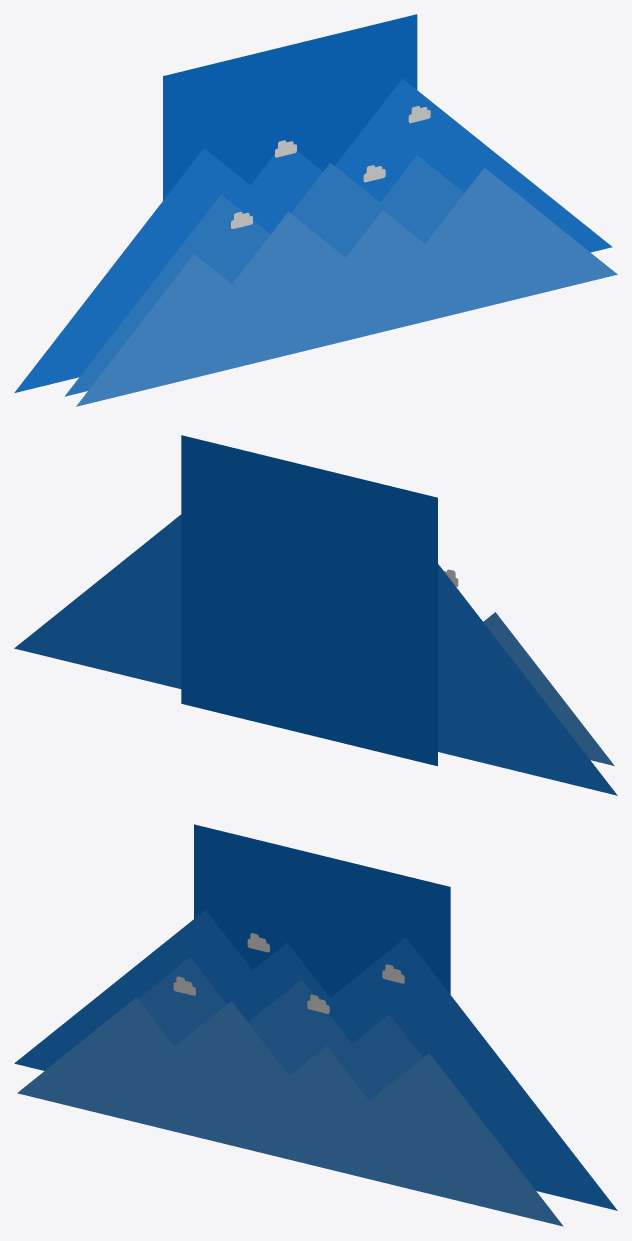
The model's file is background-blue.glb.
3 renders of one model, top to bottom at view 1: azimuth 30°, elevation 25°; view 2: azimuth 150°, elevation 25°; view 3: azimuth 330°, elevation 25°, orthographic.
Visible parts, largest first — view 1: Background-2, Background-4, Background-5, Background-3, Clouds; view 2: Background-5, Background-4, Background-2; view 3: Background-2, Background-4, Background-5, Background-3, Clouds.
Part boxes in pixels (left/top/right/bottom): Background-2: left=76, top=167, right=617, bottom=406; Background-4: left=14, top=78, right=612, bottom=392; Background-5: left=163, top=14, right=417, bottom=200; Background-3: left=64, top=155, right=464, bottom=396; Clouds: left=231, top=106, right=430, bottom=228; Background-5: left=181, top=435, right=437, bottom=766; Background-4: left=14, top=514, right=617, bottom=795; Background-2: left=483, top=612, right=614, bottom=765; Background-2: left=17, top=997, right=563, bottom=1226; Background-4: left=14, top=910, right=617, bottom=1210; Background-5: left=194, top=824, right=450, bottom=997; Background-3: left=138, top=957, right=422, bottom=1100; Clouds: left=173, top=933, right=404, bottom=1013.
Bounding box in the file's own units: 2.35 × 1 × 0.3.
